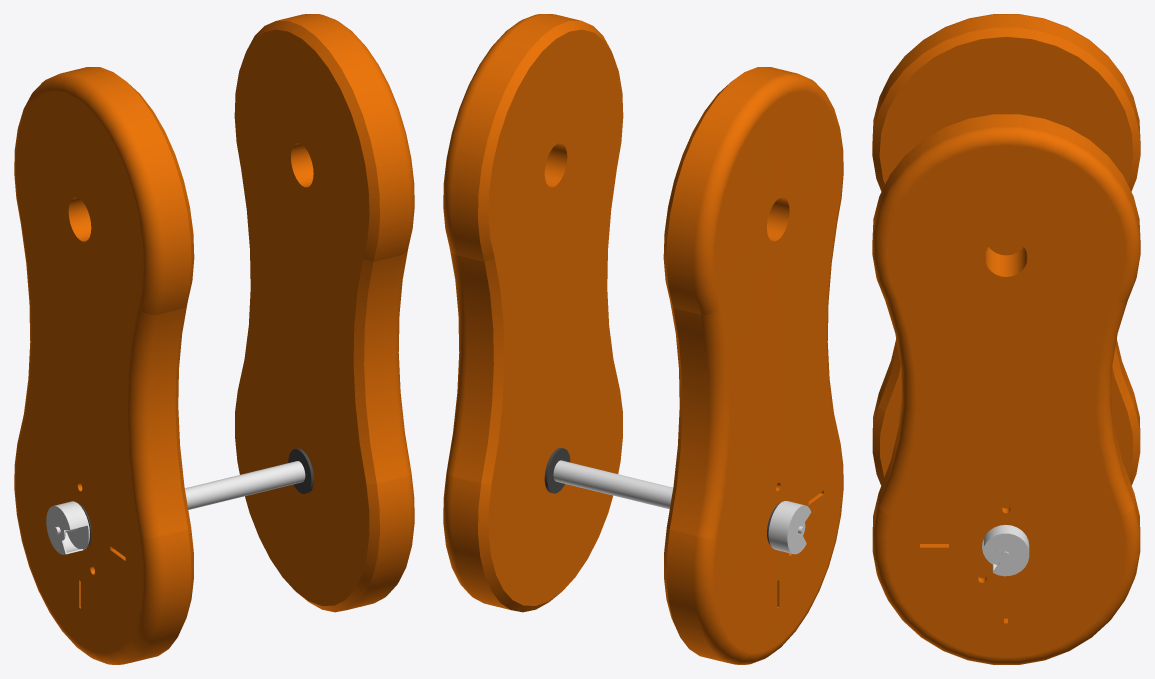
Rendered from first_arm.dae.
3 views of the same model, side by side, from view 1: azimuth 30°, elevation 25°; view 2: azimuth 150°, elevation 25°; view 3: azimuth 270°, elevation 25° (orthographic). The views are drawn at different scales.
Parts seen in each view (by area): view 1: first_arm; view 2: first_arm; view 3: first_arm.
Part boxes in pixels (bbox=[...]): first_arm: bbox=[14, 14, 414, 664]; first_arm: bbox=[443, 14, 843, 664]; first_arm: bbox=[872, 14, 1140, 664].
Size of the model in its own units: 1.98 by 1.54 by 3.41.
